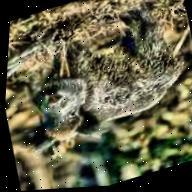boar: (9, 0, 192, 173)
